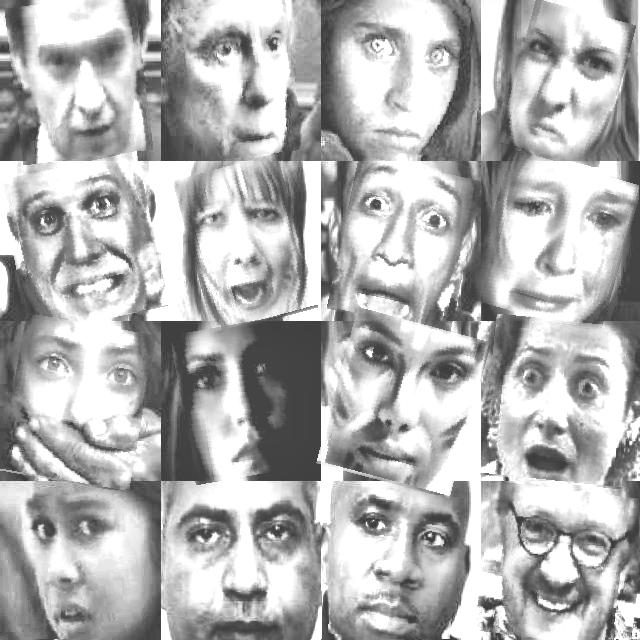angry: (506, 4, 628, 162)
fear: (5, 157, 161, 329), (484, 318, 634, 486), (5, 318, 149, 488), (335, 160, 475, 328), (183, 158, 309, 330), (339, 0, 468, 155), (184, 0, 299, 158), (22, 491, 141, 640)
happy: (478, 484, 640, 640)
neutral: (326, 315, 482, 491), (163, 485, 322, 640), (8, 0, 148, 161), (331, 488, 460, 640)
sad: (479, 157, 633, 329), (176, 321, 302, 481)
